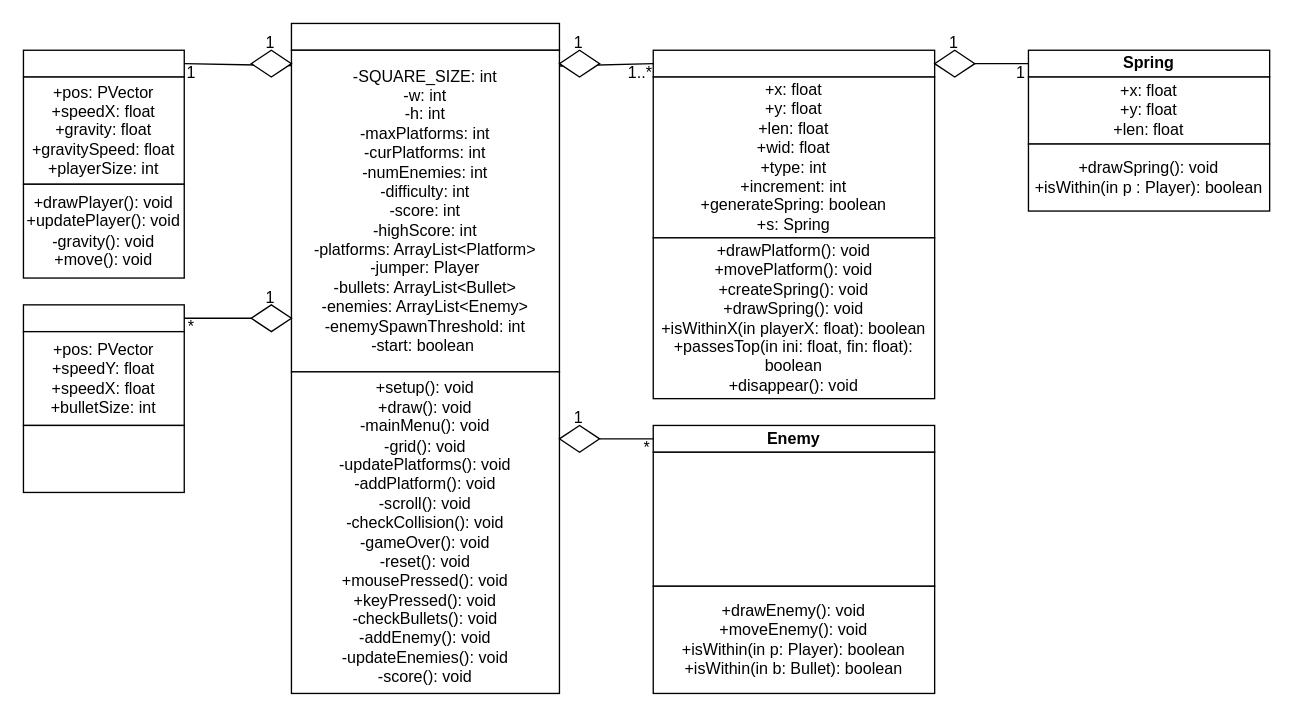
Some shapes in this 1293 by 717 pixel diagram are drawn without their labels. Here are the shapes that lost their labels. From the top down, the centre of each, then its label:
At pixel 424 36: "doodleJump".
At pixel 103 63: "Player".
At pixel 793 63: "Platform".
At pixel 103 318: "Bullet".
At pixel 103 458: "+drawBullet(): void +updateBullet(): void".
At pixel 793 518: "+x: float +y: float +len: float +wid: float +type: int +increment: int".
